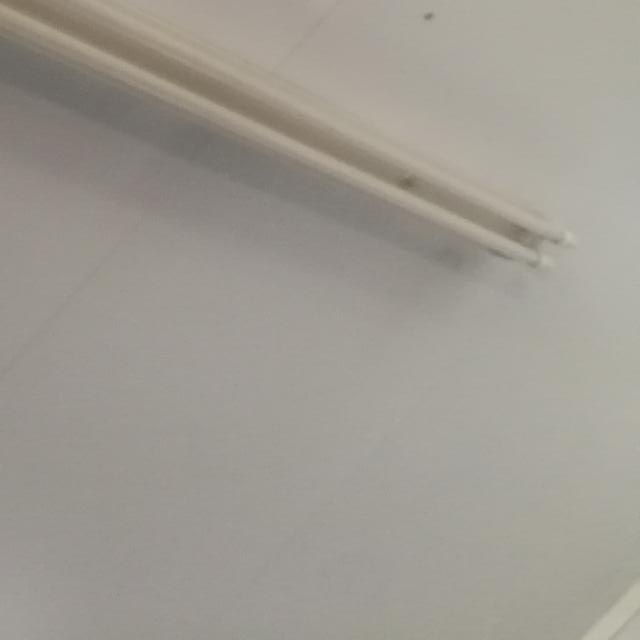fluorescent tube: (0, 0, 597, 277)
